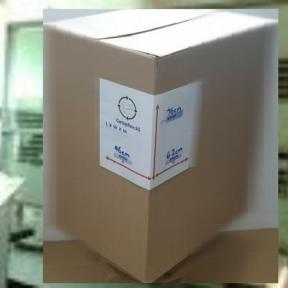box: (39, 5, 283, 288)
